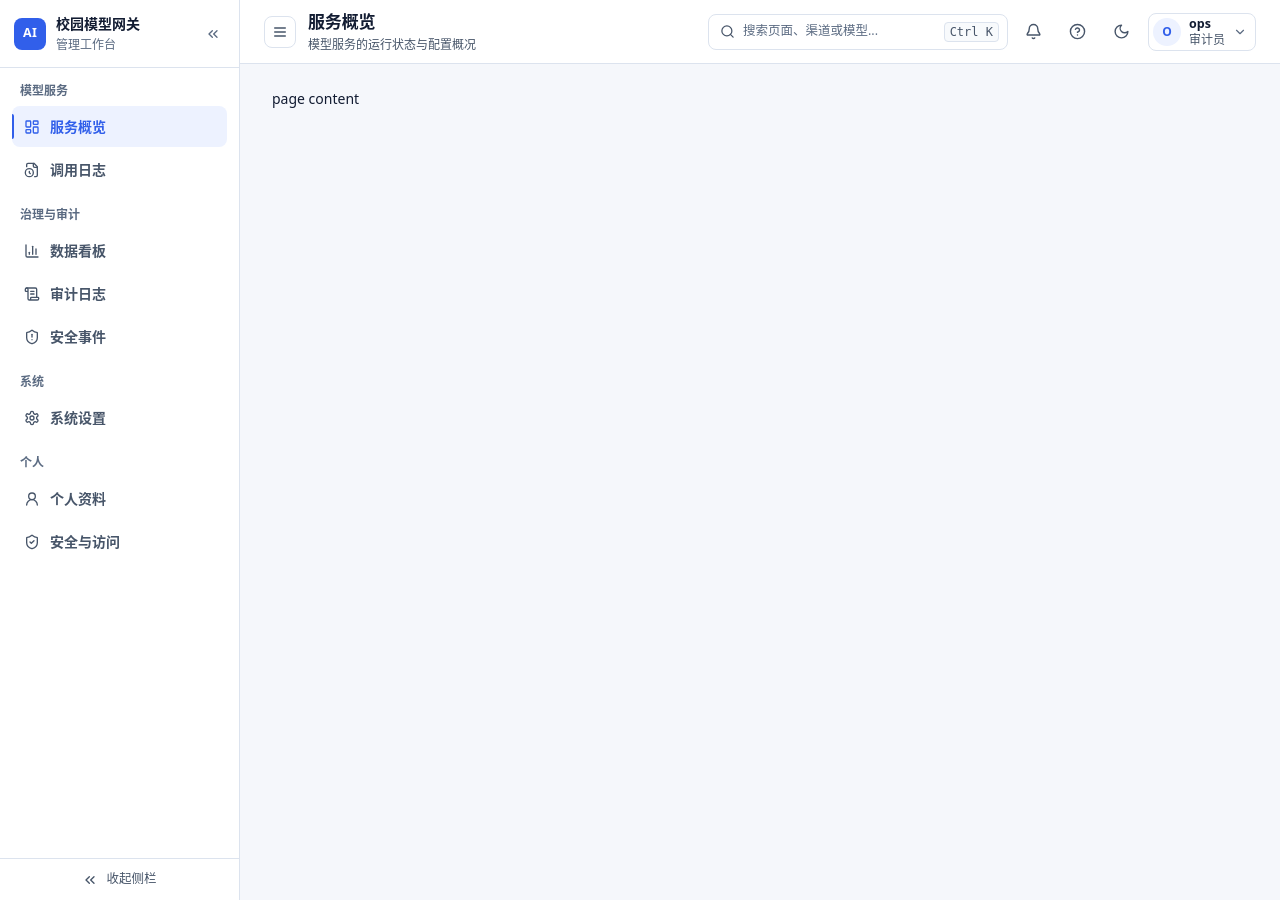
Test: Shell notification surface › reports a failed read instead of showing an empty feed
Click the button named "系统通知": (1034, 32) [1016, 14, 1052, 50]
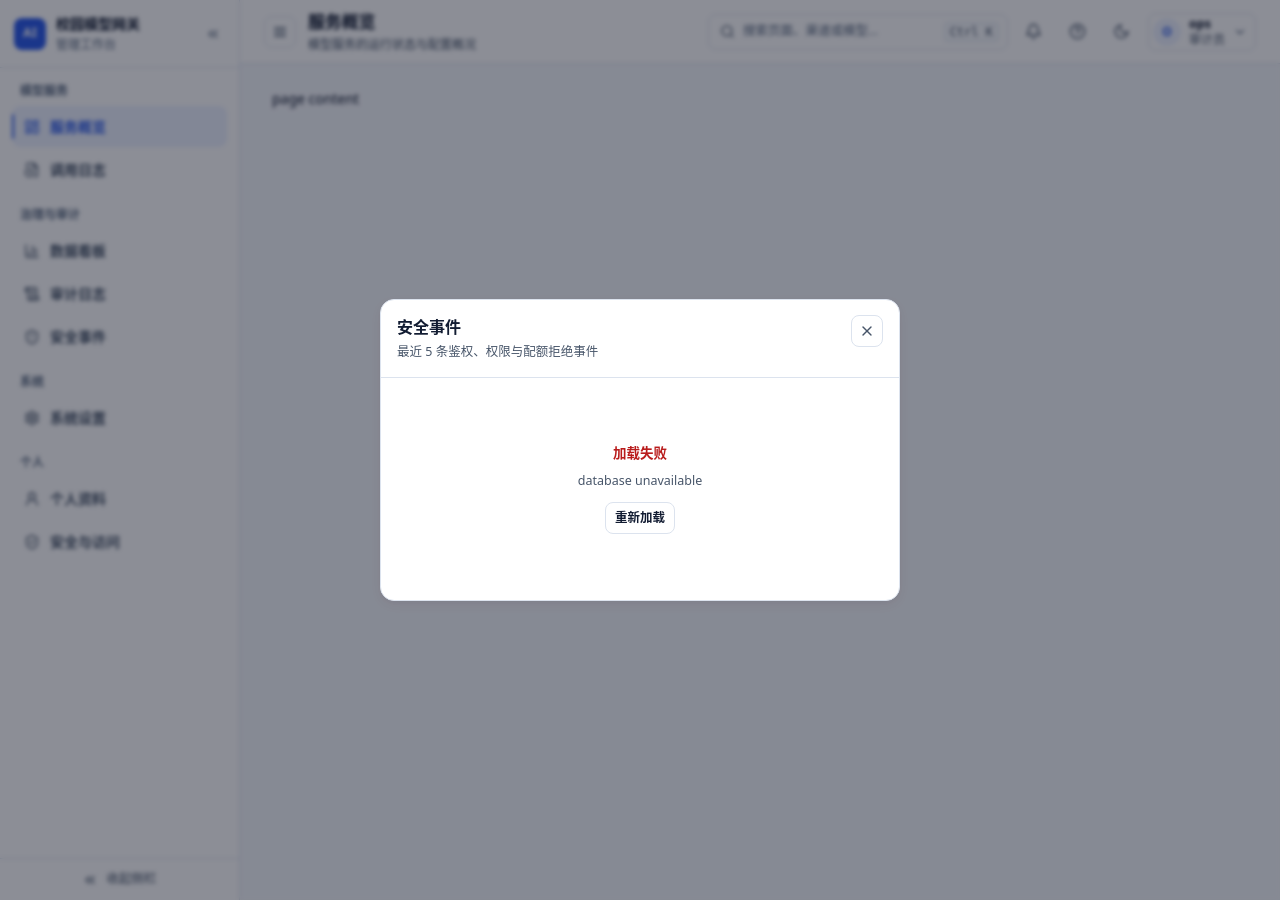
Check: the text "加载失败" is shown, box [613, 443, 667, 464]
